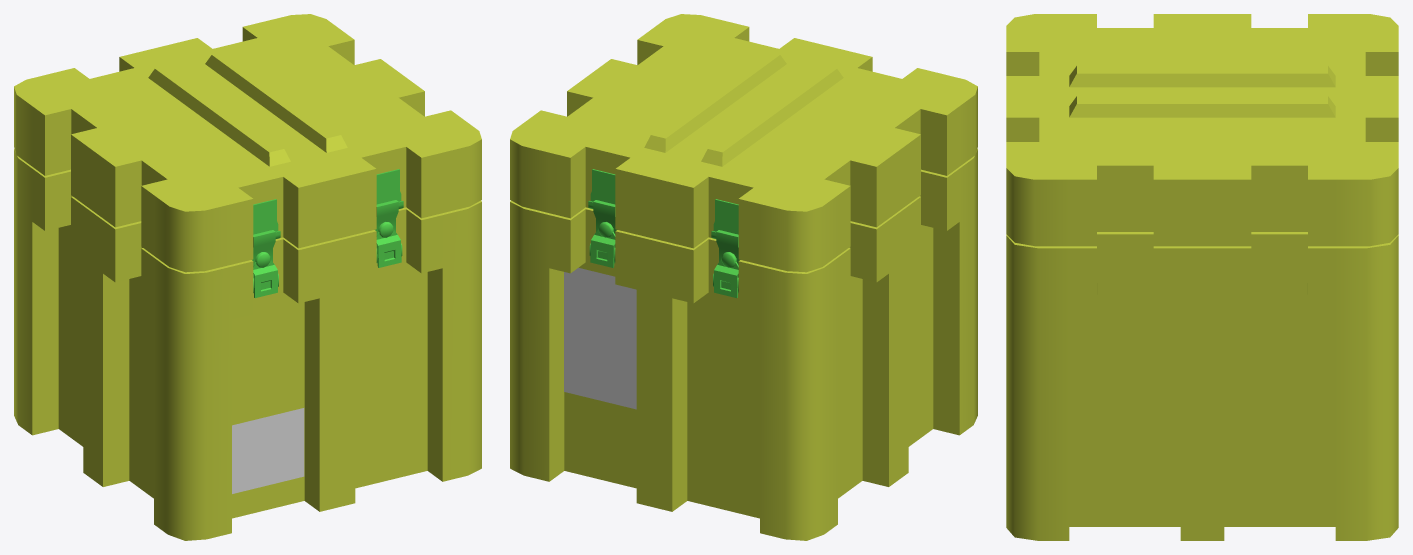
The model's file is arms_race.fbx.
The picture shows the model from 3 angles, left to right: view 1: azimuth 30°, elevation 25°; view 2: azimuth 150°, elevation 25°; view 3: azimuth 270°, elevation 25°; orthographic projection. The views are drawn at different scales.
Visible parts, largest first — view 1: Box, Box.001; view 2: Box, Label; view 3: Box.
Part boxes in pixels (<box>): Box: <box>14,14,481,540</box>; Box.001: <box>232,408,304,493</box>; Box: <box>510,14,977,540</box>; Label: <box>564,267,636,409</box>; Box: <box>1006,14,1398,540</box>.
Bounding box in the file's own units: 1.99 × 2.09 × 1.99.
